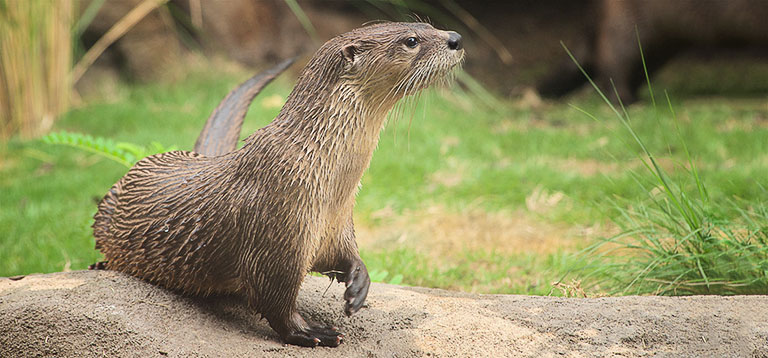otter: (58, 5, 469, 358)
